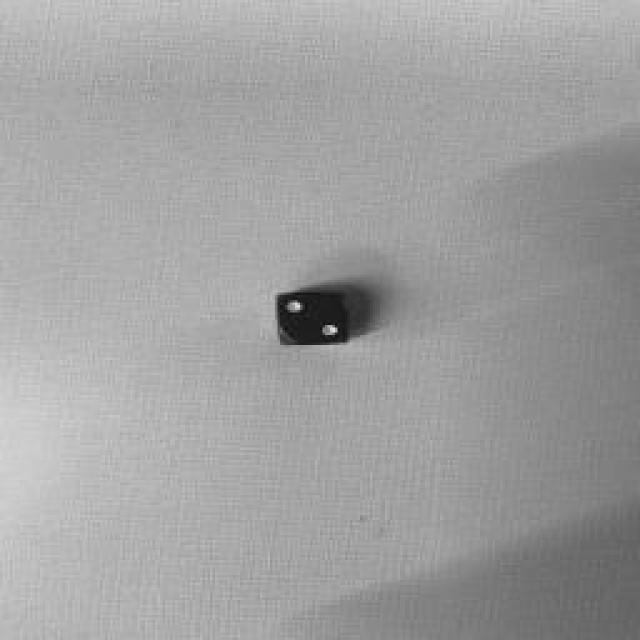dice_2: (276, 290, 349, 345)
